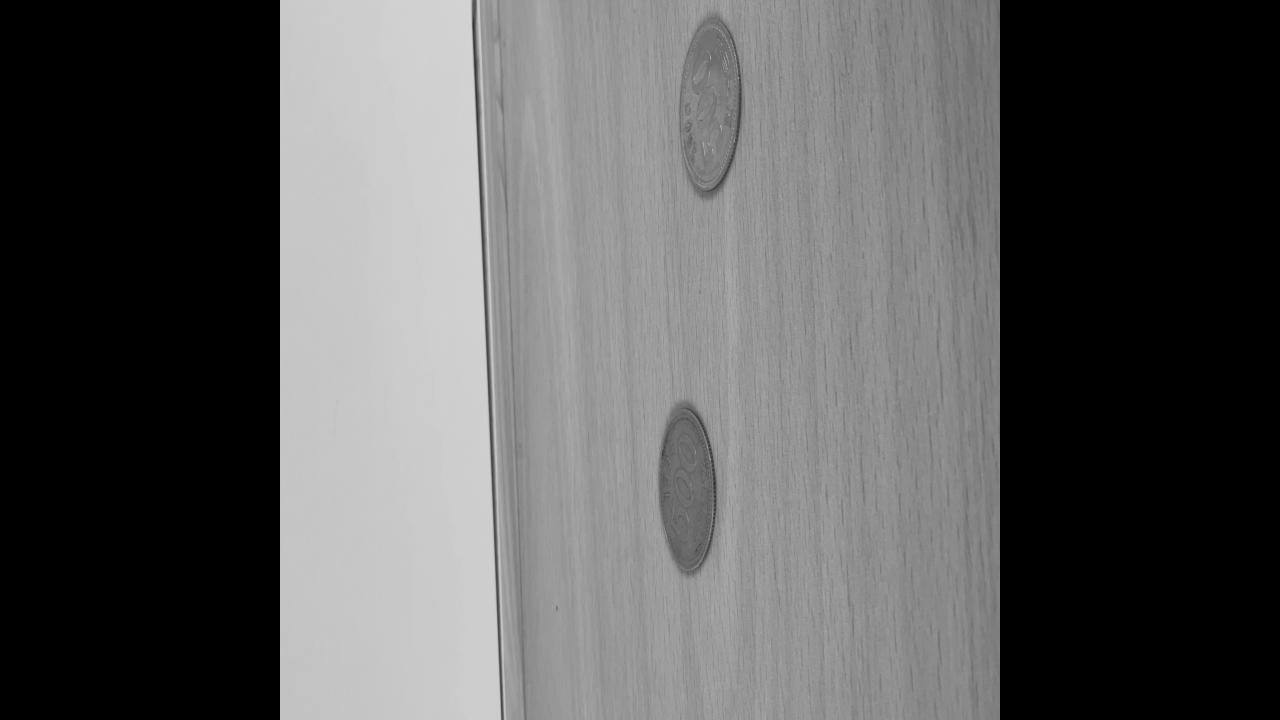coin: (676, 14, 742, 191), (657, 404, 718, 578)
